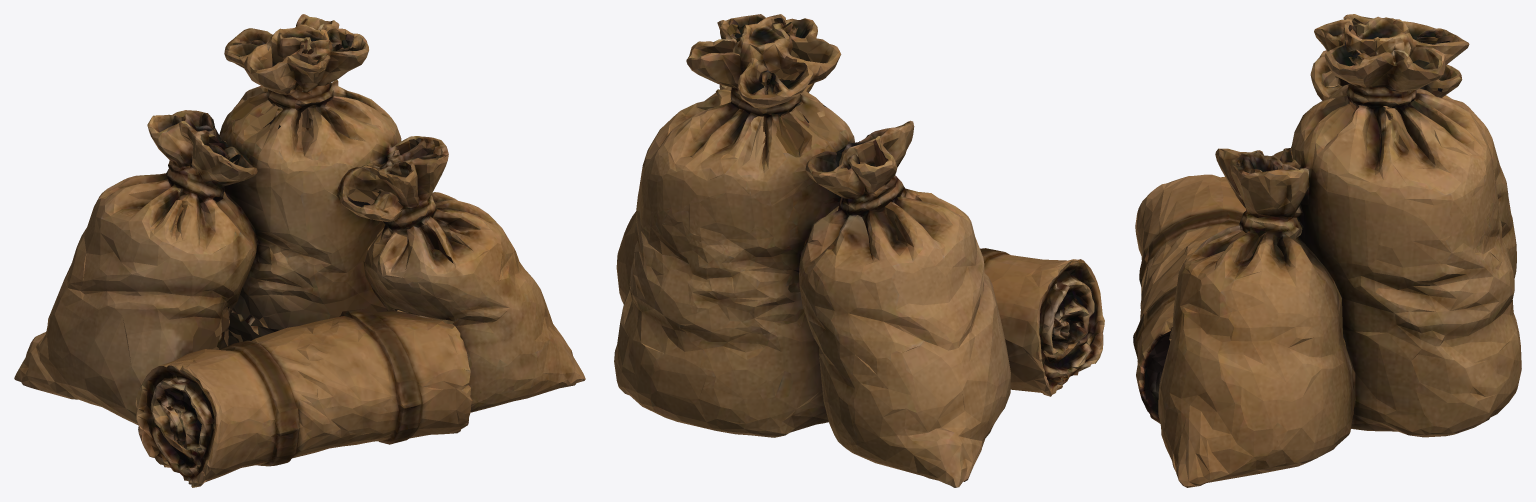
Rendered from sacks-hd.glb.
3 renders of one model, left to right at view 1: azimuth 30°, elevation 25°; view 2: azimuth 150°, elevation 25°; view 3: azimuth 270°, elevation 25°, orthographic. The views are drawn at different scales.
Parts seen in each view (by area): view 1: tmpt89kbi8e.ply; view 2: tmpt89kbi8e.ply; view 3: tmpt89kbi8e.ply.
Part boxes in pixels (x1,y1,x2,y2): tmpt89kbi8e.ply: [14, 14, 585, 487]; tmpt89kbi8e.ply: [614, 14, 1104, 487]; tmpt89kbi8e.ply: [1133, 14, 1521, 487].
Size of the model in its own units: 1.99 by 1.55 by 1.44.
Materials: 1 (1 with a texture image).
